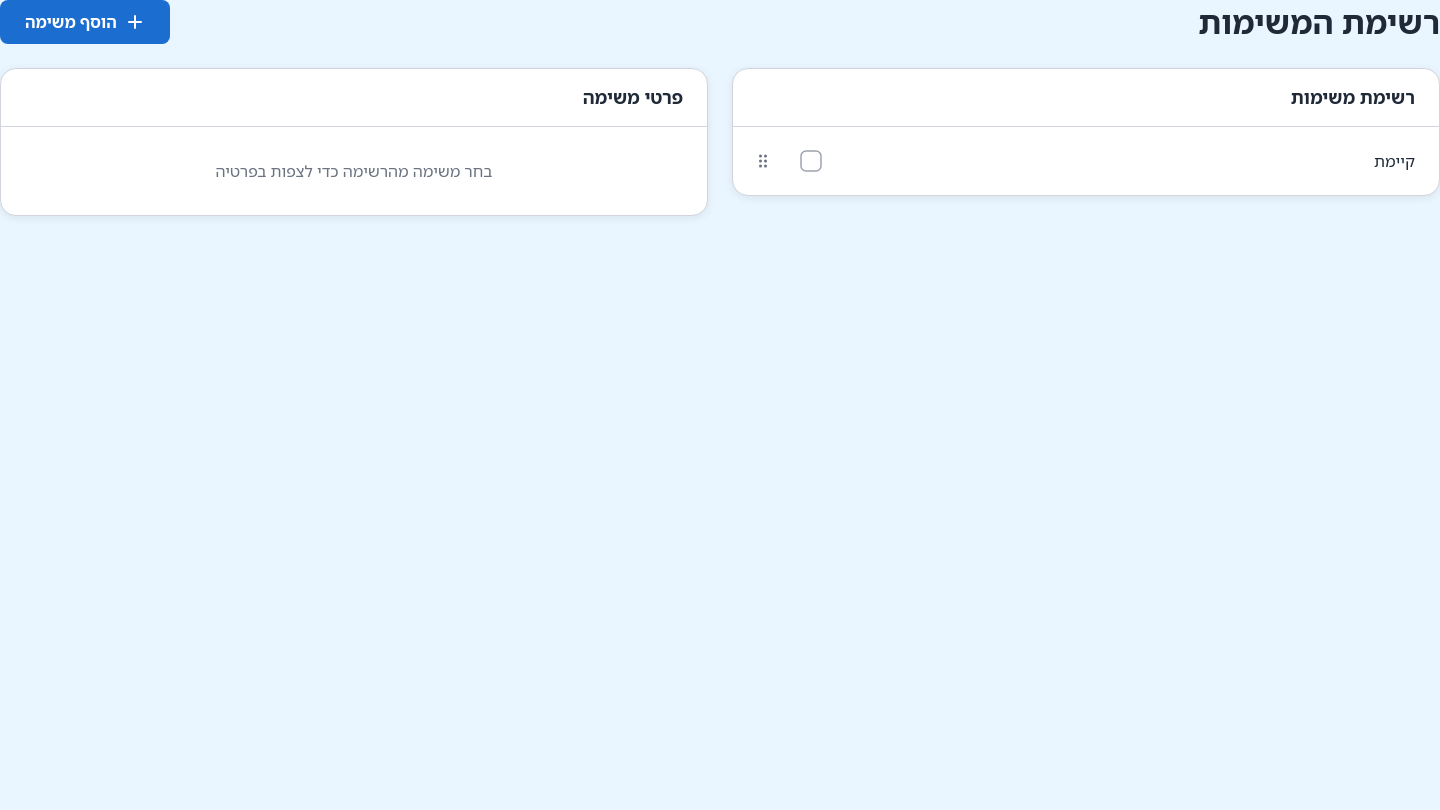
Test: create task modal › shows the server's field error under the field and the full-list error in the form
Click the button "הוסף משימה".
click(85, 22)  # box [0, 0, 170, 44]
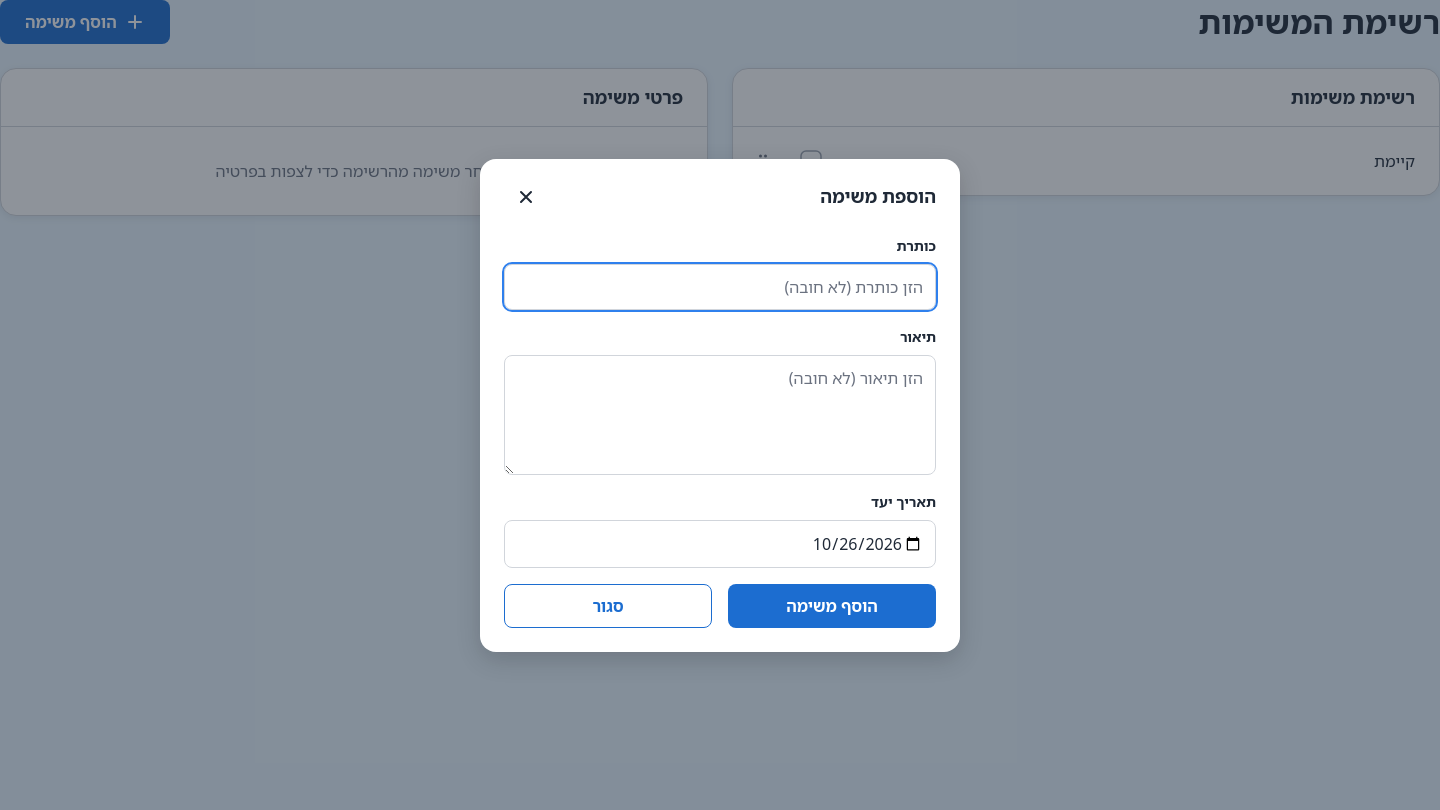
Type "x" into the field labelled "כותרת".
click(720, 286); type("x")  # box [504, 264, 936, 310]
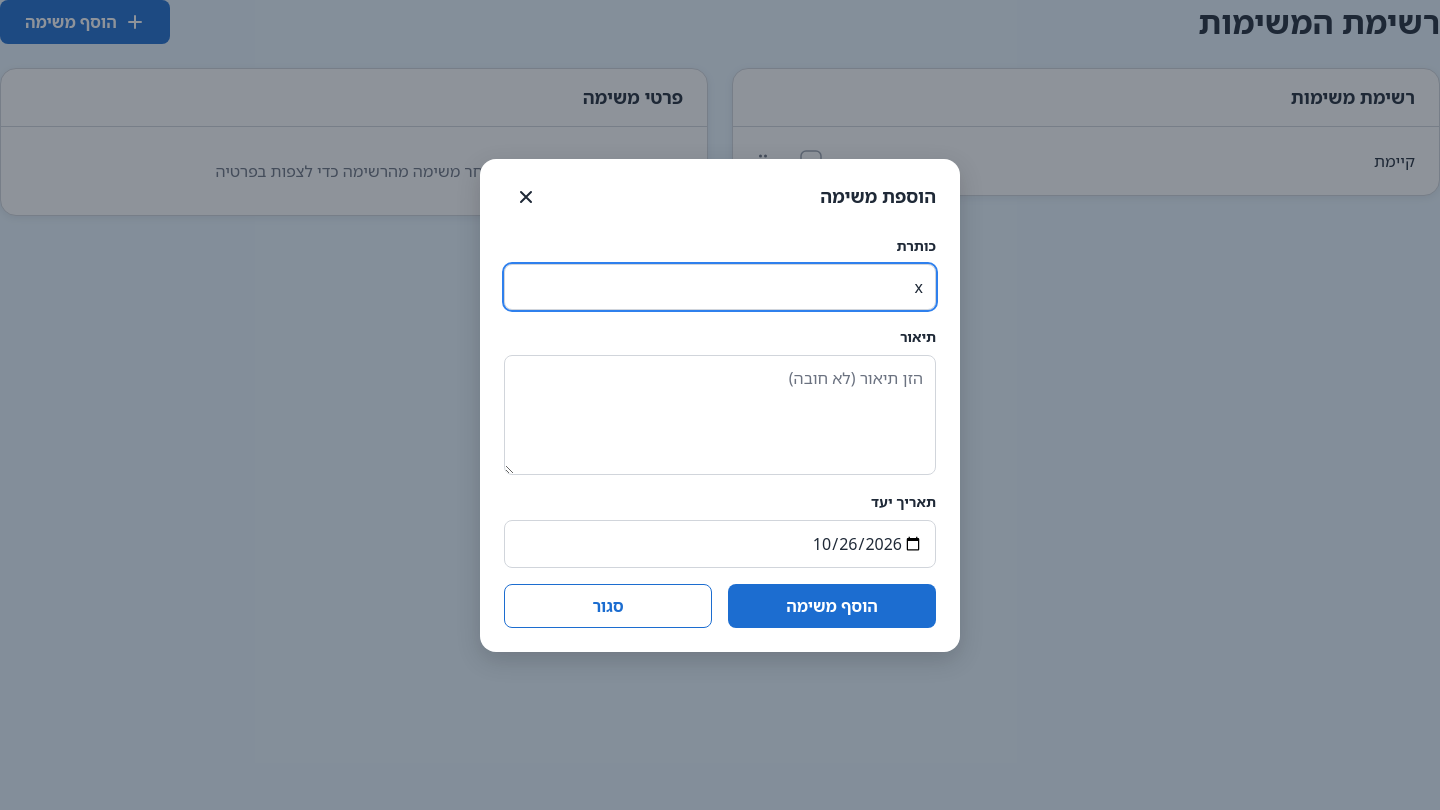
Click the button "הוסף משימה".
click(832, 606)  # box [728, 584, 936, 628]
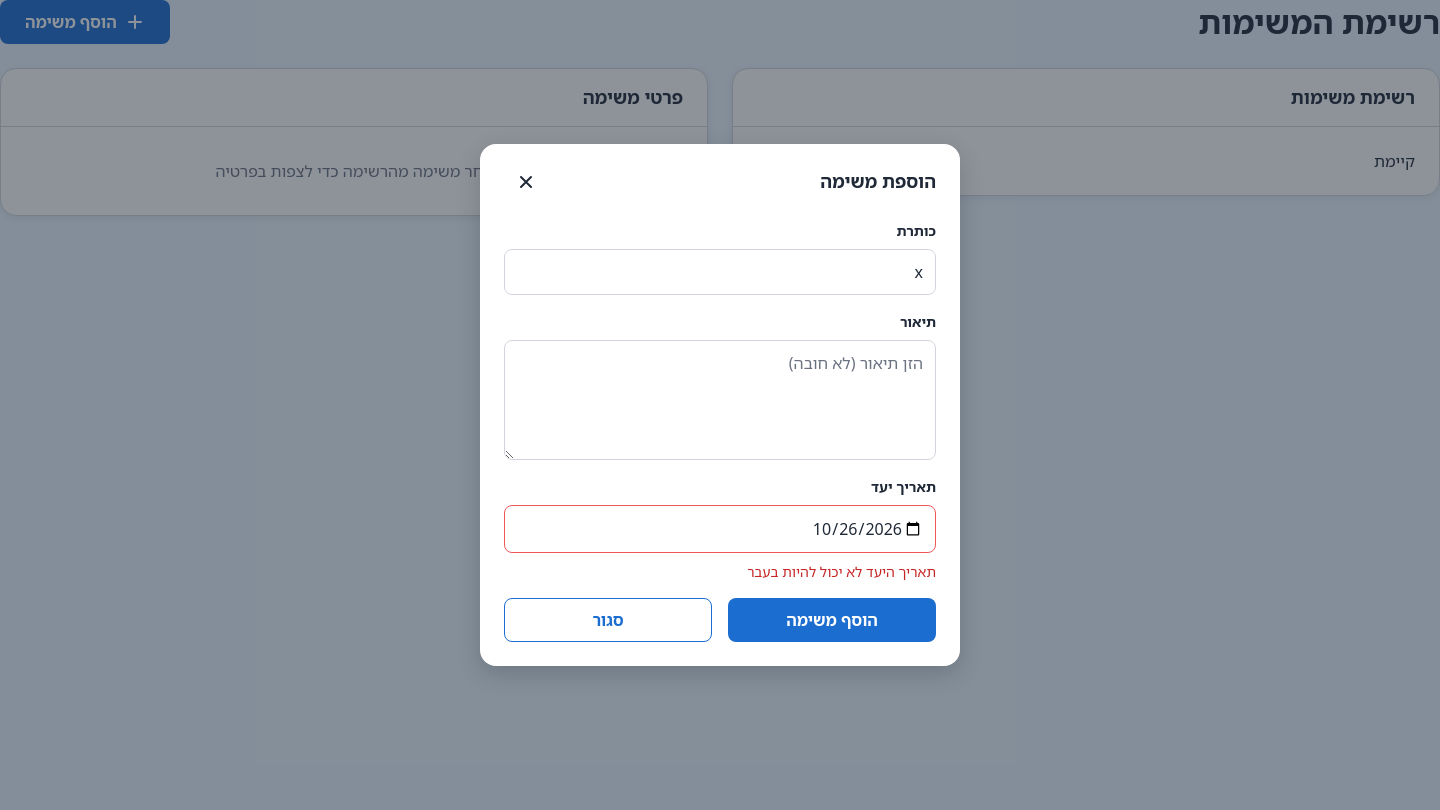
Check: the text "תאריך היעד לא יכול להיות בעבר" is shown, box [747, 562, 936, 581]
Click the button "הוסף משימה".
click(832, 620)  # box [728, 598, 936, 642]
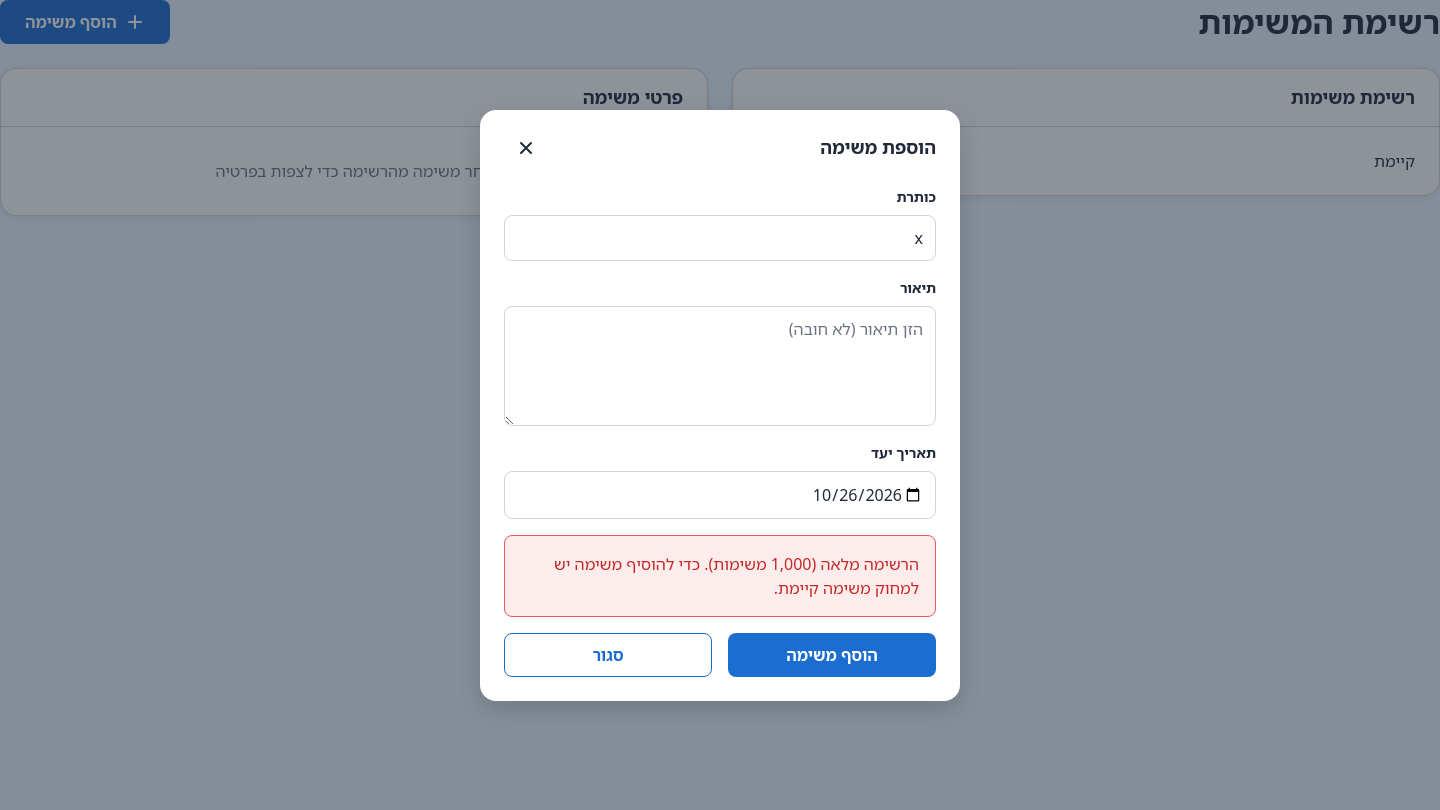
Check: the message reads "הרשימה מלאה (1,000 משימות). כדי להוסיף משימה יש למחוק משימה קיימת.", box [554, 552, 919, 598]
